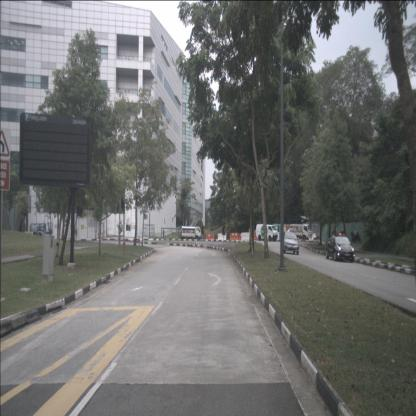human-pedestrian-adult: (180, 228, 183, 240), (162, 228, 164, 239)
movable_object-barrier: (229, 232, 241, 242), (241, 232, 251, 241), (252, 232, 262, 240), (217, 233, 227, 241), (206, 234, 215, 242)
vehicle-bus-rigid: (29, 222, 53, 237)
vehicle-car: (325, 234, 355, 261), (282, 230, 300, 254), (256, 224, 278, 241), (286, 228, 299, 237)
vehicle-motorcycle: (350, 230, 360, 242)
vehicle-truck: (290, 224, 312, 241), (181, 226, 202, 241)
